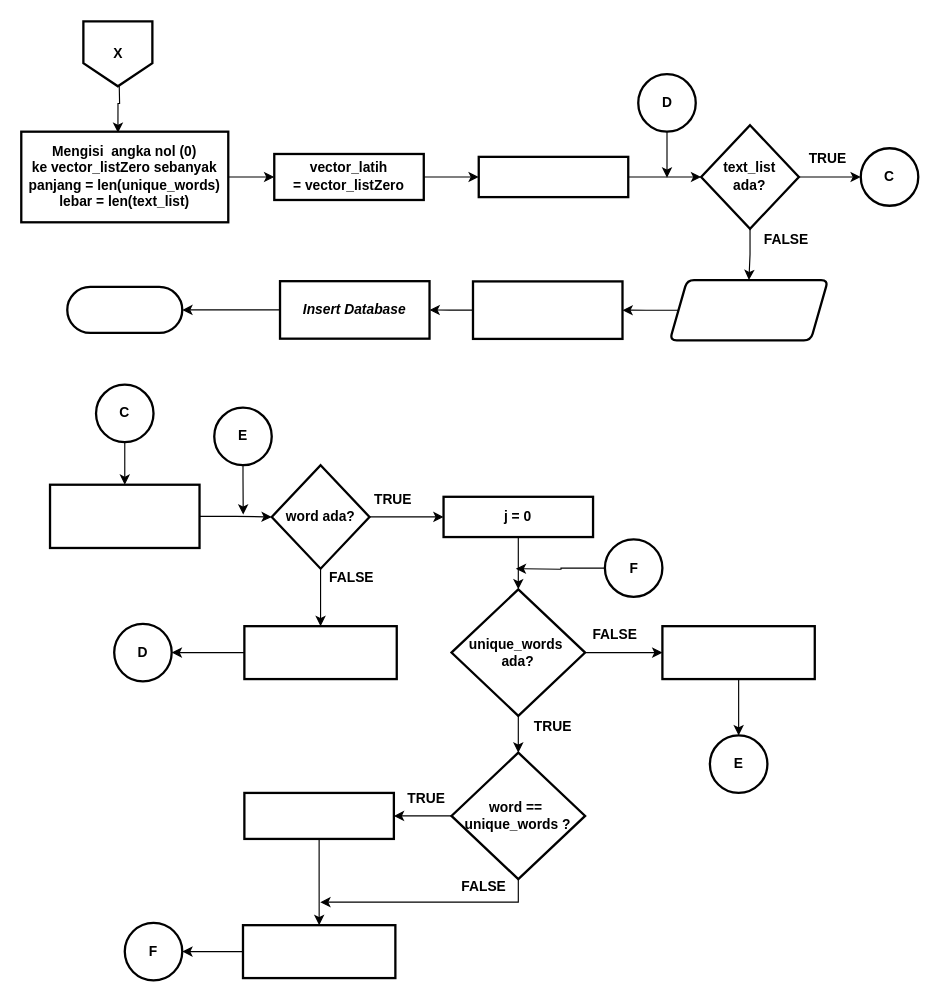
Image size: 938x1001. Some labels were removed from this diagram. Each missing label, with the box of its shape:
END: (66, 285, 183, 334)
i = 0: (477, 155, 629, 198)
Output vector_latih: (668, 278, 829, 341)
Pecah menjadi satuan kata (word): (48, 483, 200, 549)
Simpan ke dalam file JSON: (471, 280, 623, 339)
text_list selanjutnya i += 1: (243, 624, 397, 680)
unique_words selanjutnya j += 1: (241, 923, 396, 979)
vector_latih [i][j] += 1: (243, 791, 394, 839)
word selanjutnya: (661, 624, 815, 680)
